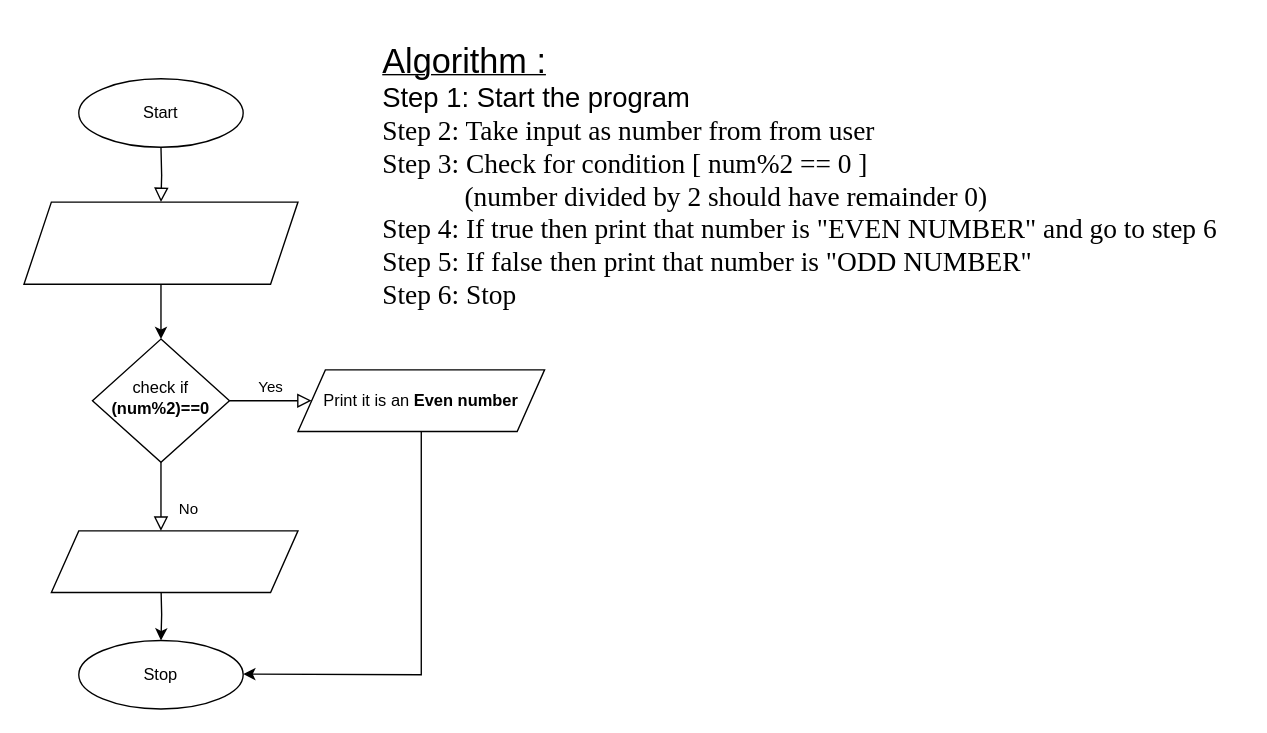
Image size: 1267x733. Some labels were removed from this diagram. The shapes that lost their labels are listed below. From the top down, each one's box as (x1, y1, x2, y2) in pixels, then its label:
(23, 201, 298, 284): Enter the number
(50, 530, 298, 593): Print it is an Odd number
